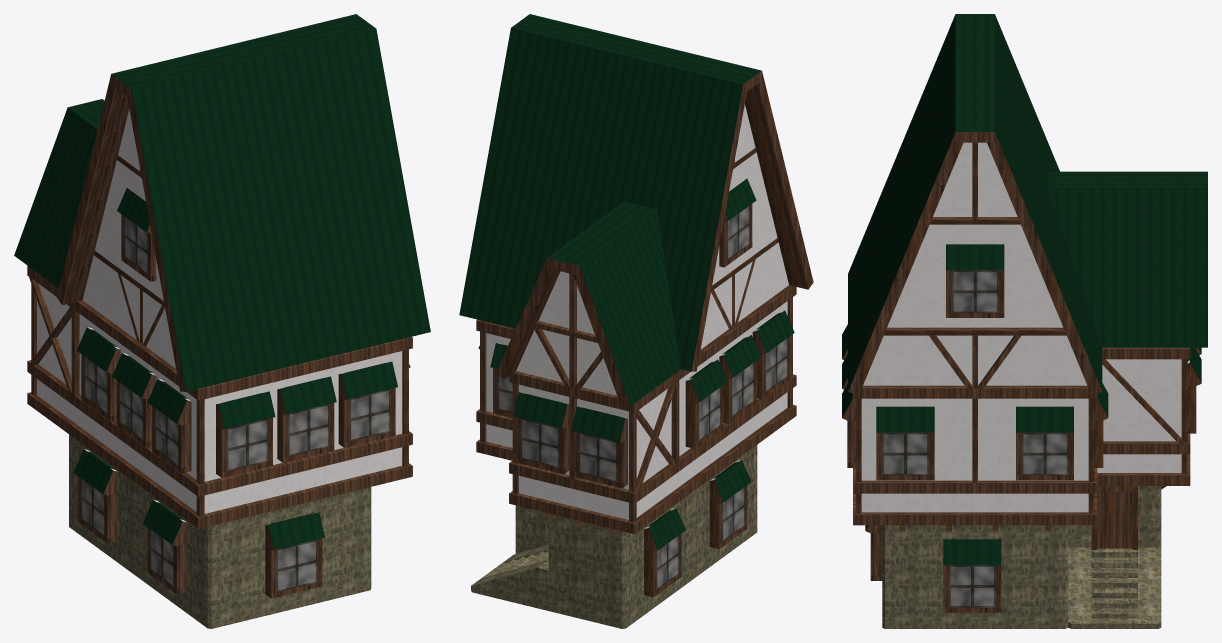
Rendered from village-house-v2.fbx.
3 renders of one model, left to right at view 1: azimuth 30°, elevation 25°; view 2: azimuth 150°, elevation 25°; view 3: azimuth 270°, elevation 25°, orthographic. The views are drawn at different scales.
Parts seen in each view (by area): view 1: roof, plaster_2, plaster, roof__1_, foundation, floor, floor__4_, floor__2_, windowbox__9_, windowbox__17_, windowbox__10_, windowbox__11_ (+15 smaller); view 2: roof, roof__1_, foundation, plaster_3, plaster_1, plaster_2, windowbox__5_, windowbox__4_, windowbox__18_, windowbox__15_, windowbox__19_, windowbox__13_ (+20 smaller); view 3: roof, roof__1_, plaster_2, plaster, plaster_3, foundation_1, windowbox__7_, windowbox__16_, windowbox__8_, windowbox__6_, Stairs, floor (+20 smaller).
Part boxes in pixels (<box>): roof: <box>56,14,430,391</box>; plaster_2: <box>82,316,402,513</box>; plaster: <box>115,468,371,586</box>; roof__1_: <box>14,99,104,288</box>; foundation: <box>69,484,290,628</box>; floor: <box>74,426,412,528</box>; floor__4_: <box>74,394,412,496</box>; floor__2_: <box>74,300,412,400</box>; windowbox__9_: <box>338,361,397,447</box>; windowbox__17_: <box>265,512,324,598</box>; windowbox__10_: <box>277,376,336,462</box>; windowbox__11_: <box>216,391,275,477</box>; roof: <box>459,14,813,371</box>; roof__1_: <box>496,201,680,407</box>; foundation: <box>547,492,757,628</box>; plaster_3: <box>519,384,677,519</box>; plaster_1: <box>548,509,669,588</box>; plaster_2: <box>486,301,787,487</box>; windowbox__5_: <box>571,406,627,488</box>; windowbox__4_: <box>513,392,569,473</box>; windowbox__18_: <box>709,459,751,549</box>; windowbox__15_: <box>685,359,727,448</box>; windowbox__19_: <box>644,507,685,597</box>; windowbox__13_: <box>752,310,794,399</box>; roof: <box>848,14,1102,395</box>; roof__1_: <box>1047,171,1207,347</box>; plaster_2: <box>861,398,1088,512</box>; plaster: <box>882,525,1068,586</box>; plaster_3: <box>1097,359,1181,472</box>; foundation_1: <box>882,586,1068,628</box>; windowbox__7_: <box>876,406,934,480</box>; windowbox__16_: <box>943,539,1001,612</box>; windowbox__8_: <box>946,244,1004,317</box>; windowbox__6_: <box>1016,406,1073,480</box>; Stairs: <box>1091,548,1137,628</box>; floor: <box>853,493,1097,525</box>.
Size of the model in its own units: 600 by 1225 by 786.
Materials: 5 (5 with a texture image).
